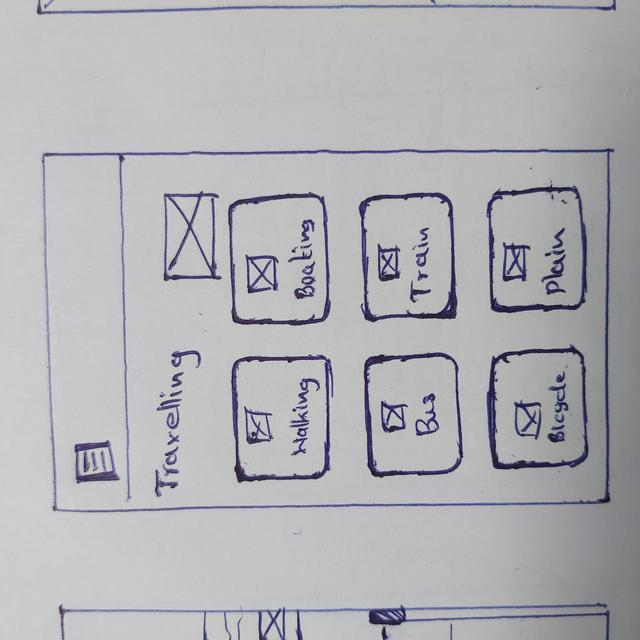AppBar: (42, 153, 131, 508)
CardView: (227, 194, 330, 326), (357, 193, 459, 319), (230, 356, 331, 483), (487, 187, 587, 314), (487, 348, 590, 471), (363, 354, 463, 477)
DrawerToggleButton: (74, 443, 118, 482)
Image: (163, 191, 216, 278), (244, 408, 273, 443), (247, 255, 275, 290), (504, 244, 527, 281), (515, 403, 540, 436), (380, 402, 406, 432), (377, 247, 400, 280)
MainLayout: (37, 149, 611, 507)
TextView: (155, 351, 188, 496), (296, 218, 317, 298), (547, 374, 569, 444), (294, 378, 312, 456), (414, 229, 433, 302), (547, 230, 565, 297), (421, 395, 437, 436)
